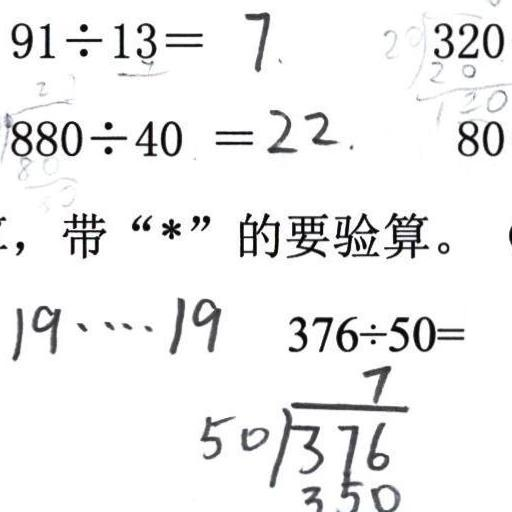ans: (6, 291, 223, 361), (266, 103, 339, 156), (238, 3, 274, 71)
